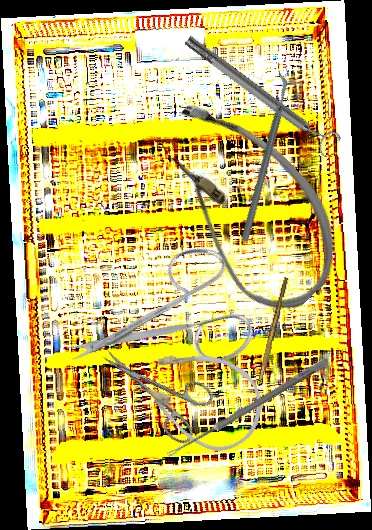Cannula: (122, 82, 368, 329), (124, 328, 277, 465)
Chopper: (183, 69, 344, 244)
Fixation Ring: (179, 27, 343, 160)
Iris Scissors: (61, 211, 282, 438), (87, 327, 222, 448)
Scalpel Handle: (258, 276, 289, 383)
Surgical Spoon: (165, 357, 329, 460)
